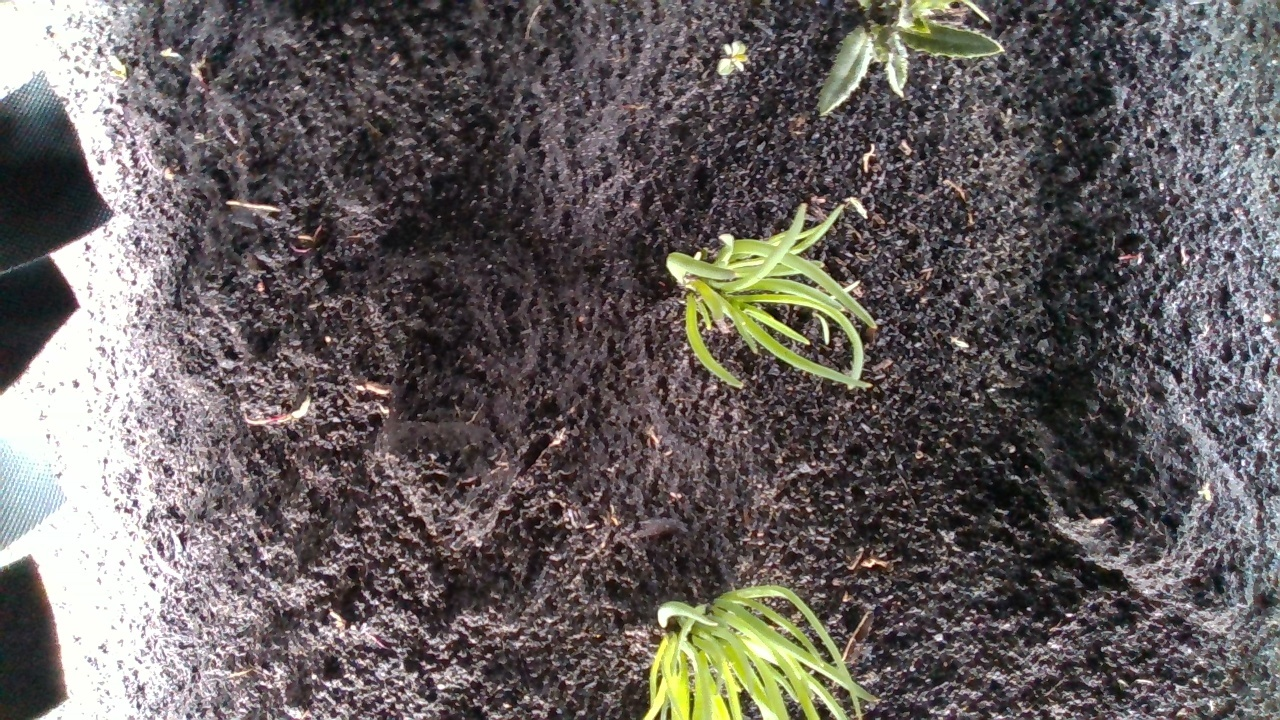weed: (712, 36, 745, 79)
